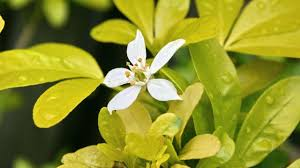flower: (92, 29, 187, 115)
